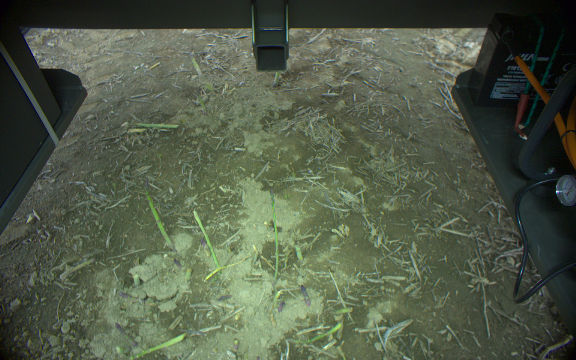aspa: (136, 181, 175, 253), (190, 209, 223, 273), (125, 330, 188, 360), (265, 187, 282, 286), (295, 321, 346, 346), (190, 80, 217, 116), (266, 289, 287, 326), (112, 320, 136, 346), (127, 119, 179, 130), (187, 54, 204, 81), (299, 284, 310, 308)
